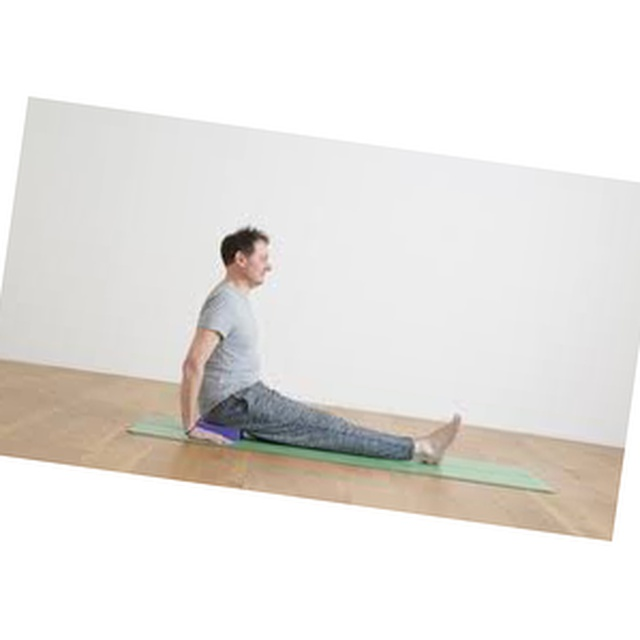Staff_Pose: (181, 225, 462, 467)
